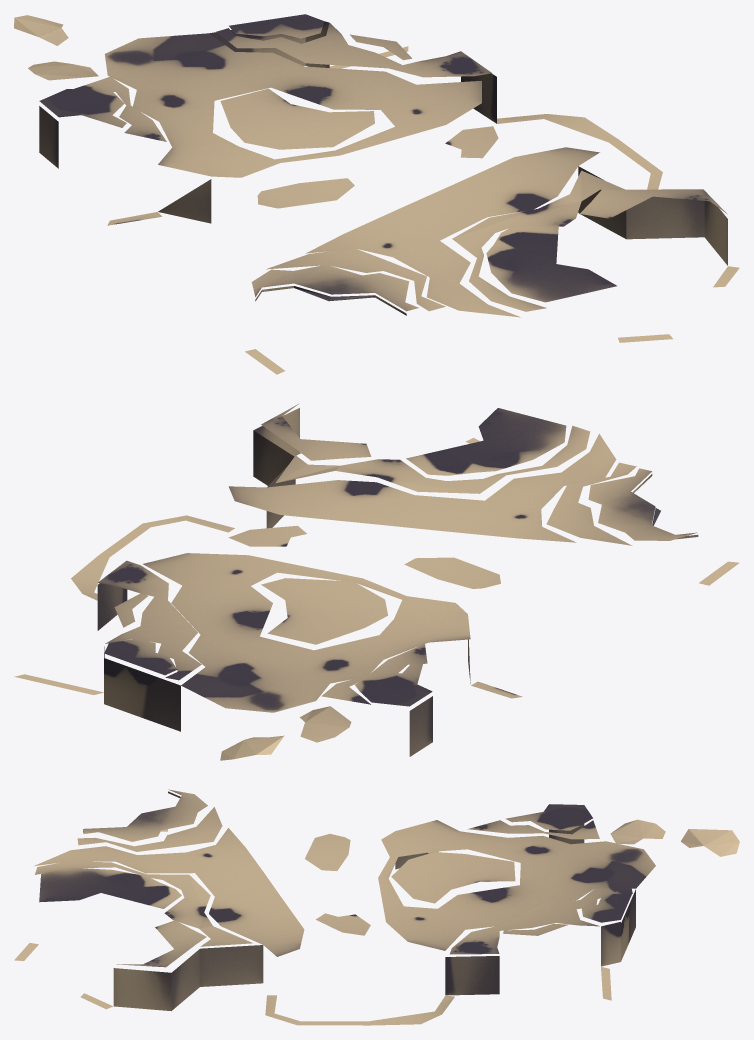
File: Ground_01.FBX
3 renders of one model, top to bottom at view 1: azimuth 30°, elevation 25°; view 2: azimuth 150°, elevation 25°; view 3: azimuth 270°, elevation 25°, orthographic. The views are drawn at different scales.
Parts seen in each view (by area): view 1: Ground_01; view 2: Ground_01; view 3: Ground_01.
Part boxes in pixels (x1=…): Ground_01: x1=14, y1=14, x2=739, y2=374; Ground_01: x1=14, y1=404, x2=739, y2=760; Ground_01: x1=14, y1=789, x2=739, y2=1025.
Size of the model in its own units: 22.99 by 2.35 by 35.59.
